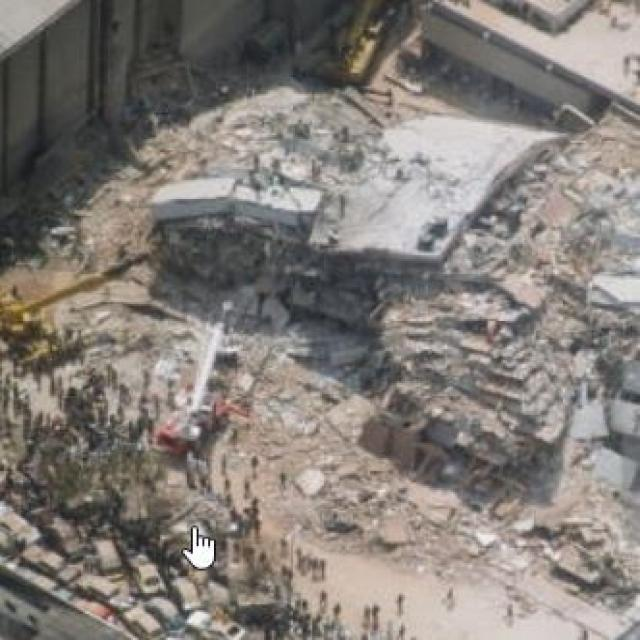collapsed_building: (164, 73, 638, 509)
